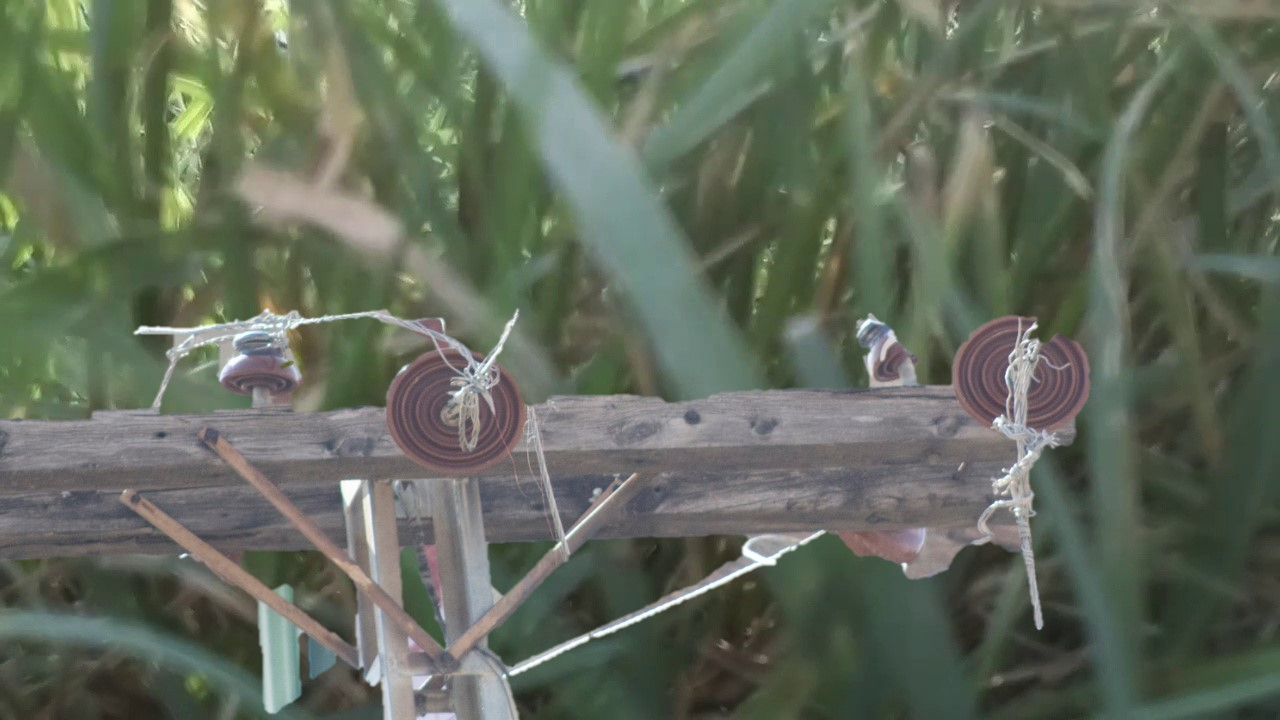defect_pin: (851, 312, 920, 391)
insulator_disc: (380, 342, 531, 484), (944, 304, 1095, 440)
insulator_pin: (215, 326, 309, 400)
